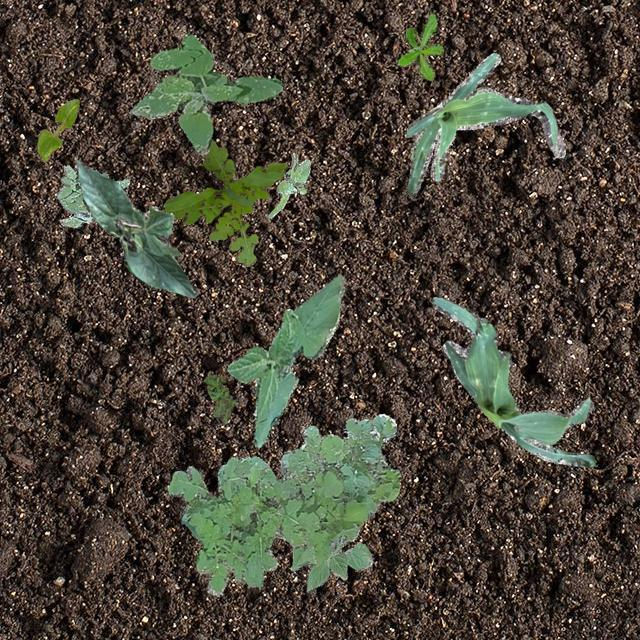crop: (431, 296, 594, 467), (405, 52, 563, 198), (225, 274, 344, 446), (74, 158, 196, 296), (291, 524, 371, 592), (36, 98, 78, 160)
weed: (166, 412, 400, 596), (130, 34, 282, 154), (164, 138, 286, 266), (54, 164, 128, 226), (397, 12, 442, 80), (268, 152, 310, 216), (202, 370, 235, 422)
